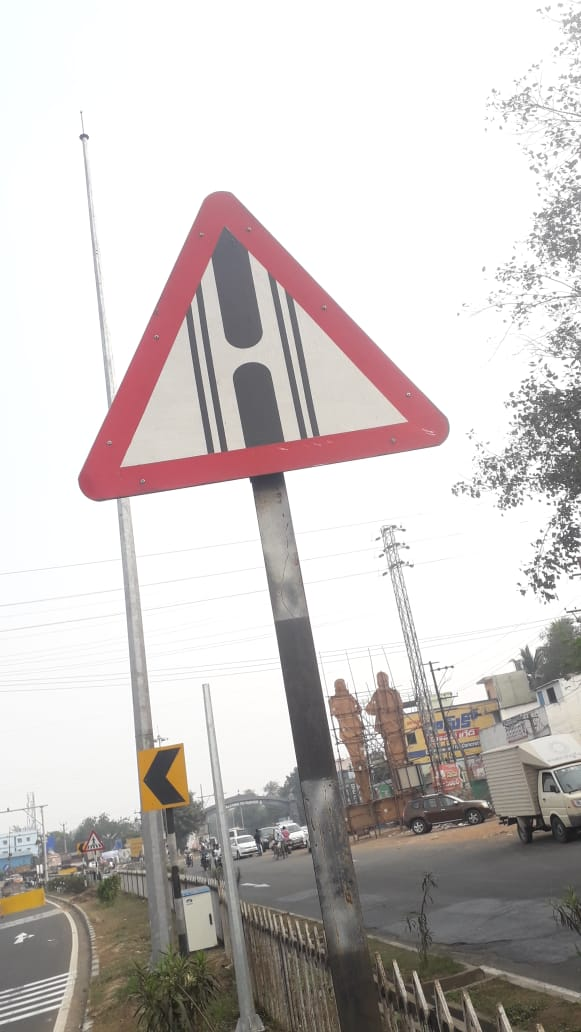highway go straight: (87, 175, 485, 513)
